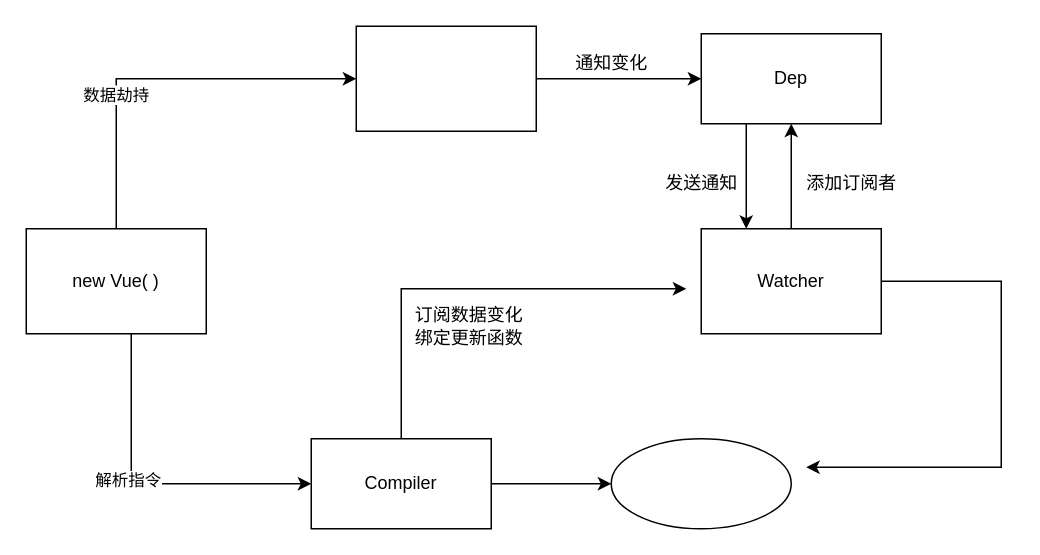
Image size: 1040x555. Some labels were removed from this diagram. Each missing label, with the box of its shape:
Oberserver: (355, 25, 536, 131)
View: (610, 437, 791, 529)
